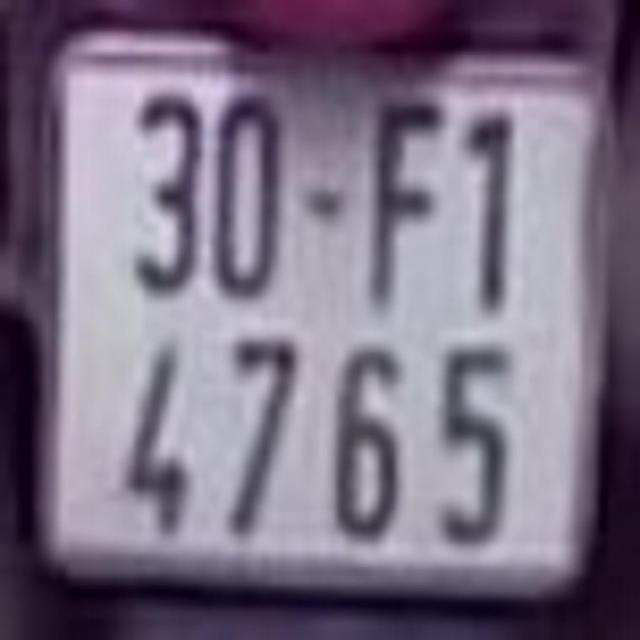0: (210, 97, 288, 298)
1: (469, 111, 515, 312)
3: (133, 97, 200, 290)
4: (120, 333, 190, 532)
5: (443, 336, 516, 549)
6: (333, 339, 403, 536)
7: (216, 341, 302, 534)
F: (363, 104, 449, 307)
